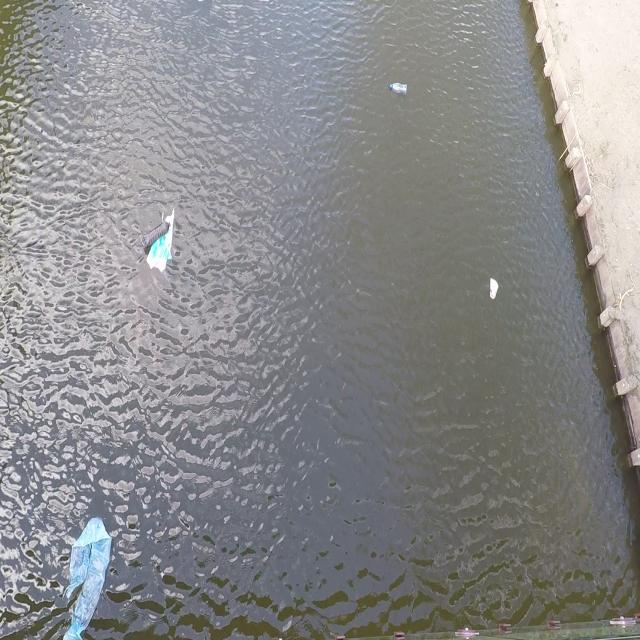Bouteille plastique: (136, 218, 173, 255), (385, 75, 413, 101)
Non plastique: (483, 273, 502, 303)
Sac plastique: (62, 507, 115, 640)
